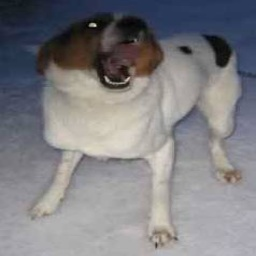dog: (24, 6, 246, 248)
